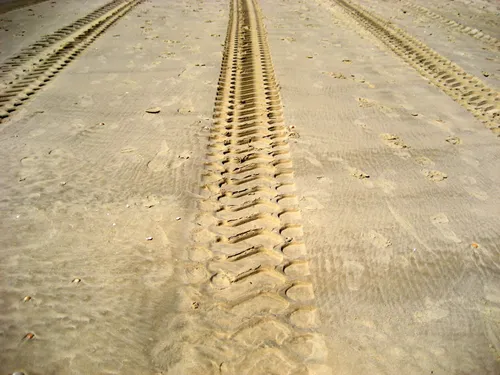vehicle_track: (190, 0, 329, 373), (334, 0, 499, 135), (0, 0, 141, 118), (0, 0, 125, 80), (403, 0, 499, 48)
